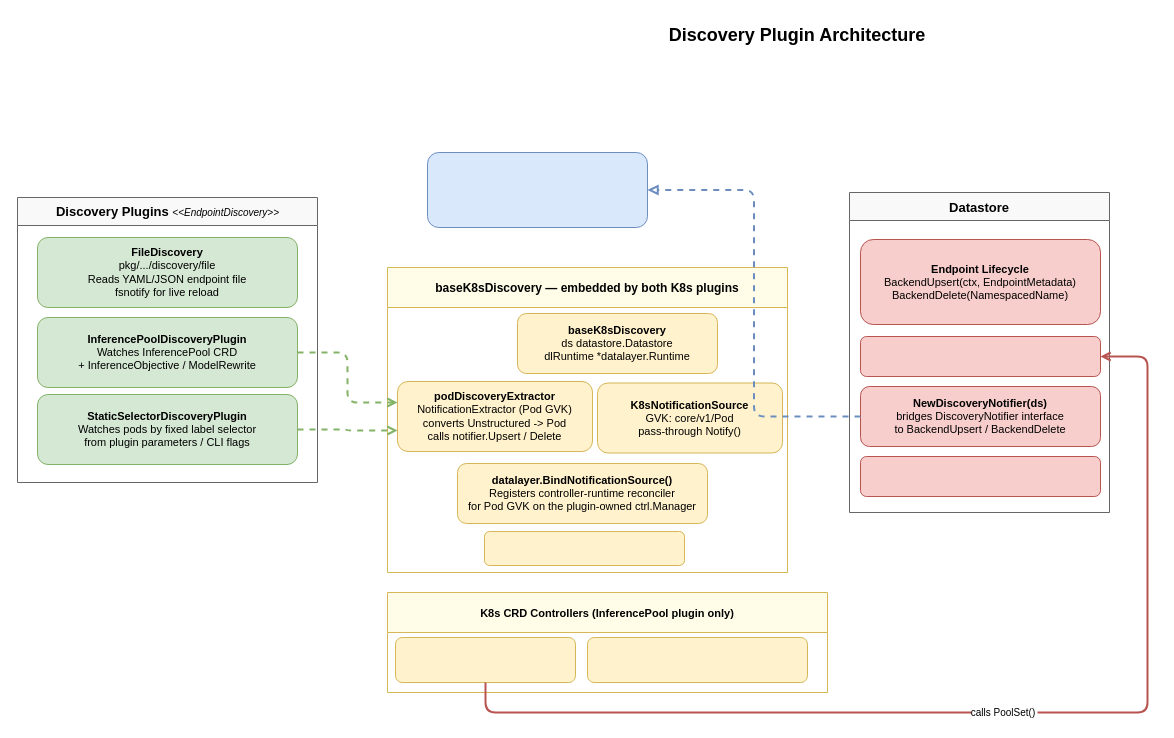
This 1174x738 diagram has some shape labels left out. The shapes that lost their labels are listed below. From the top down, each one's centre as x and y in pixels, then its label:
At point 537,190: "<<interface>> DiscoveryNotifier Upsert(EndpointMetadata) Delete(NamespacedName)".
At point 980,356: "Pool Management".
At point 980,476: "EPP Runner creates: NewDatastore().WithEndpointPool(pool)".
At point 584,548: "ctrl.Manager Namespace-scoped Pod cache + CRD caches (InferencePool case)".
At point 485,659: "InferencePoolReconciler calls ds.PoolSet() on CRD change".
At point 697,659: "InferenceObjective / ModelRewriteReconciler (when CRDs are installed)".
